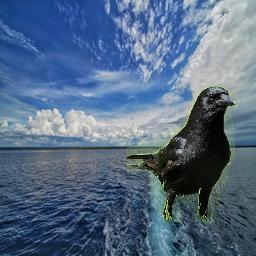Crow: (126, 85, 238, 222)
